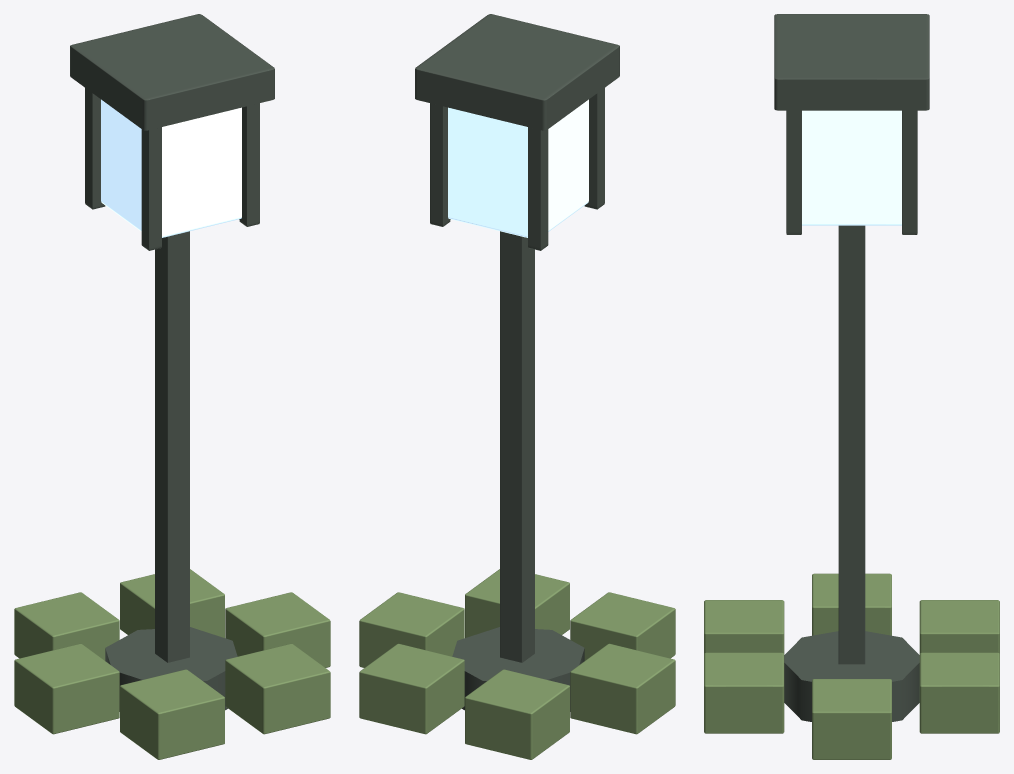
The model's file is gardenlamp-2.glb.
3 renders of one model, left to right at view 1: azimuth 30°, elevation 25°; view 2: azimuth 150°, elevation 25°; view 3: azimuth 270°, elevation 25°, orthographic. The views are drawn at different scales.
Parts seen in each view (by area): view 1: gardenlamp-2-0; view 2: gardenlamp-2-0; view 3: gardenlamp-2-0.
Part boxes in pixels (x1,y1,x2,y2): gardenlamp-2-0: [14, 14, 330, 759]; gardenlamp-2-0: [359, 14, 675, 759]; gardenlamp-2-0: [704, 14, 999, 759].
Bounding box in the file's own units: 0.74 × 1.62 × 0.665.
